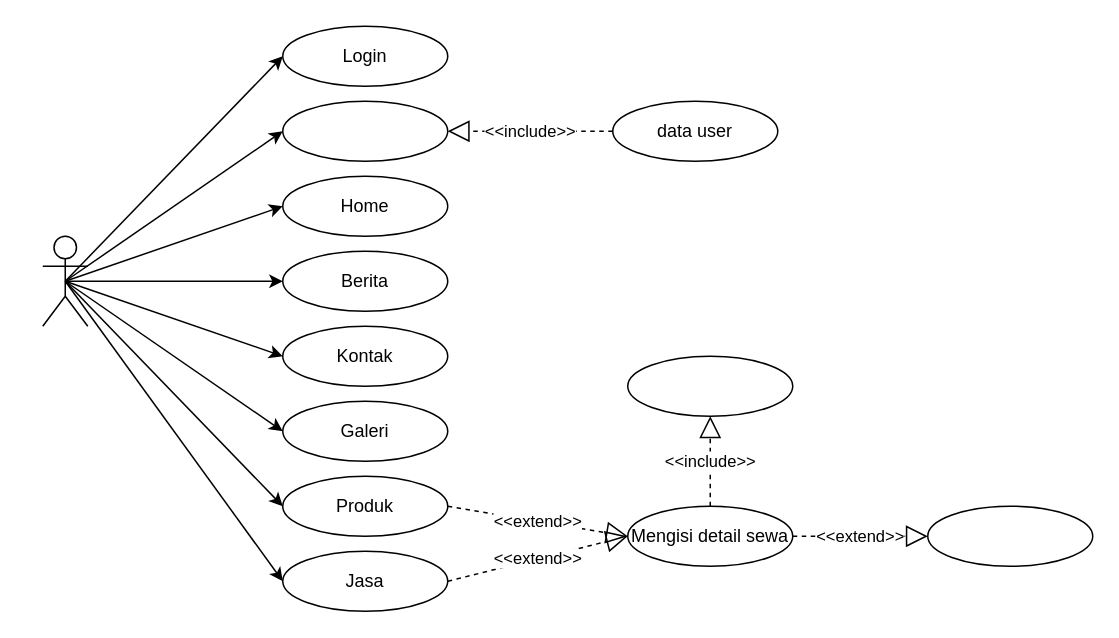
Image size: 1119x638. Some labels were removed from this diagram. Each missing label, with the centre of its shape:
"Costumer" goes at (64,280).
"Mengirim bukti pembayaran" goes at (709,385).
"Mengirim notif ke admin" goes at (1009,535).
"Register" goes at (364,130).
